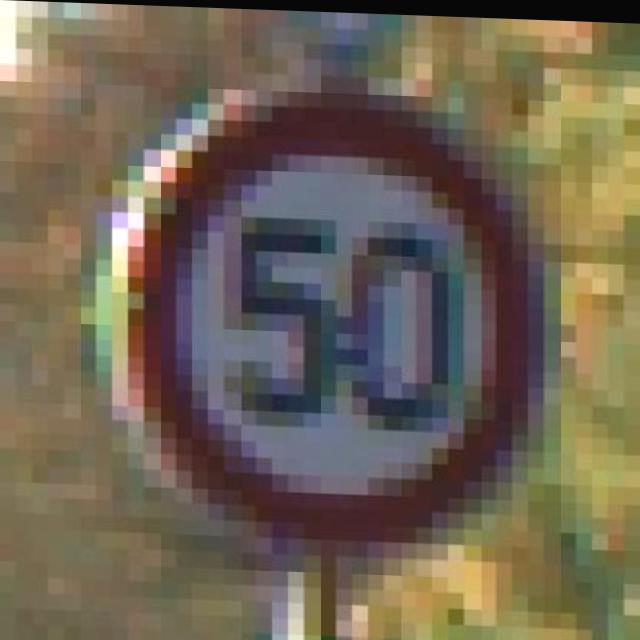Speed limit 50: (106, 79, 538, 539)
